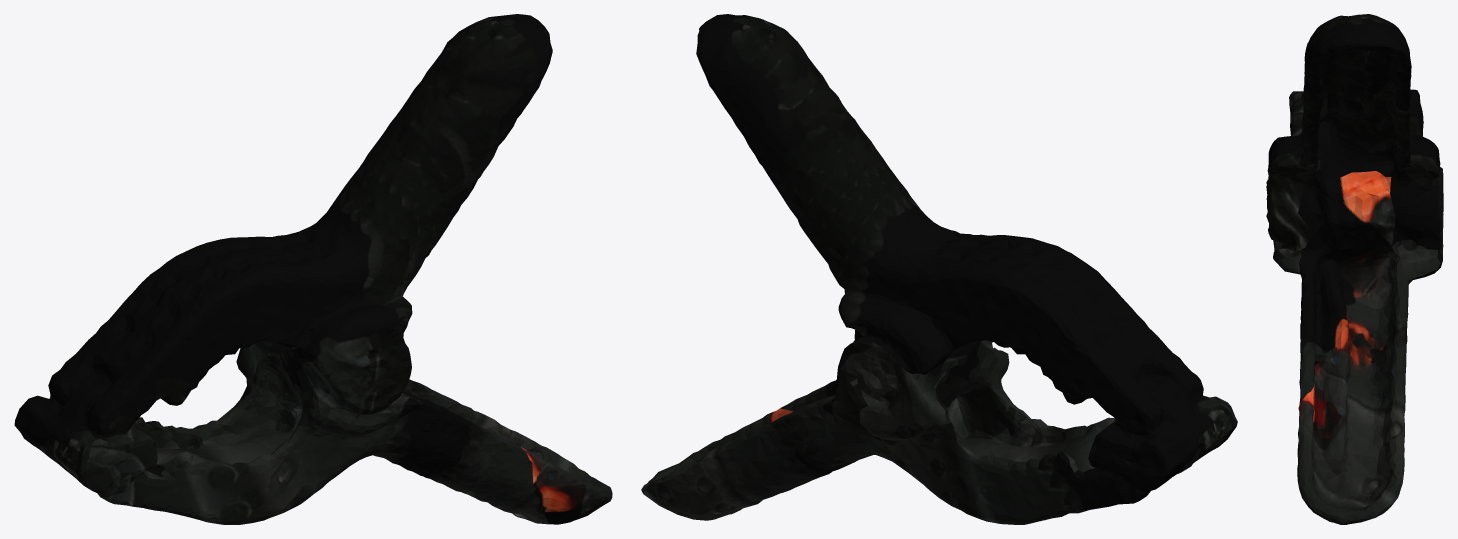
3 views of the same model, side by side, from view 1: azimuth 30°, elevation 25°; view 2: azimuth 150°, elevation 25°; view 3: azimuth 270°, elevation 25° (orthographic). The views are drawn at different scales.
Visible parts, largest first — view 1: node; view 2: node; view 3: node.
Boxes of the visible parts, <box> form: node: <box>14,14,612,524</box>; node: <box>641,14,1237,524</box>; node: <box>1266,14,1443,524</box>.
Size of the model in its own units: 0.0889 by 0.0768 by 0.0261.
